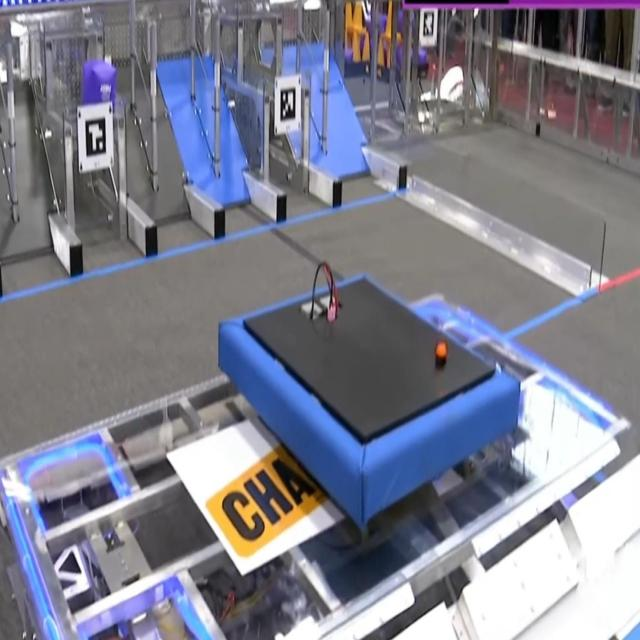frc_cone: (384, 0, 394, 44), (349, 32, 362, 64), (343, 4, 355, 35), (377, 36, 386, 68), (352, 5, 363, 31), (362, 26, 369, 62)
frc_cube: (78, 55, 115, 114), (376, 13, 388, 34), (417, 49, 428, 69), (341, 45, 353, 63), (398, 10, 408, 31)
